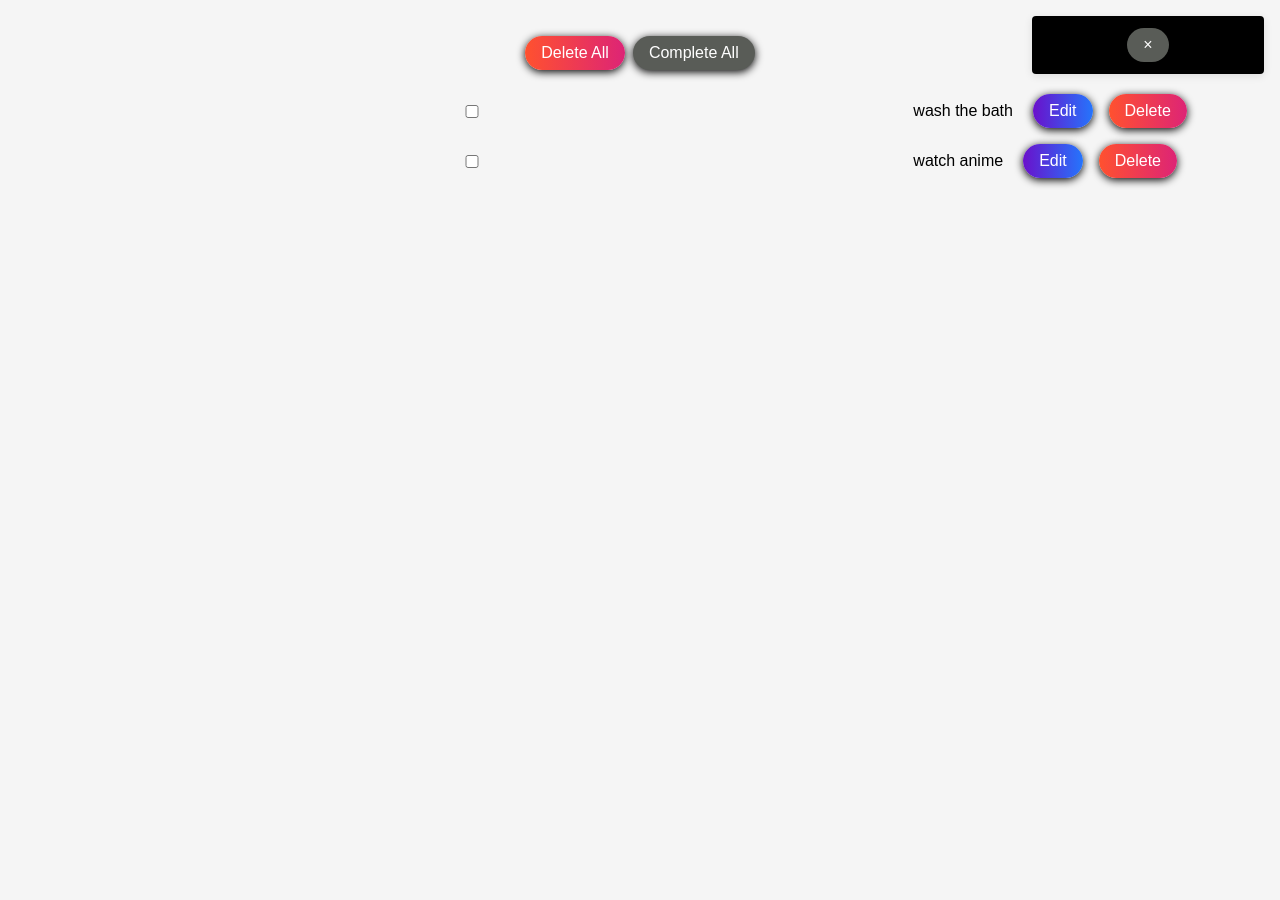
it: Editing a todo- client side validation › User marks all todo items as completed
Step 1. Click the button "Complete All" → {"x": 694, "y": 53}, box [633,36,755,70]
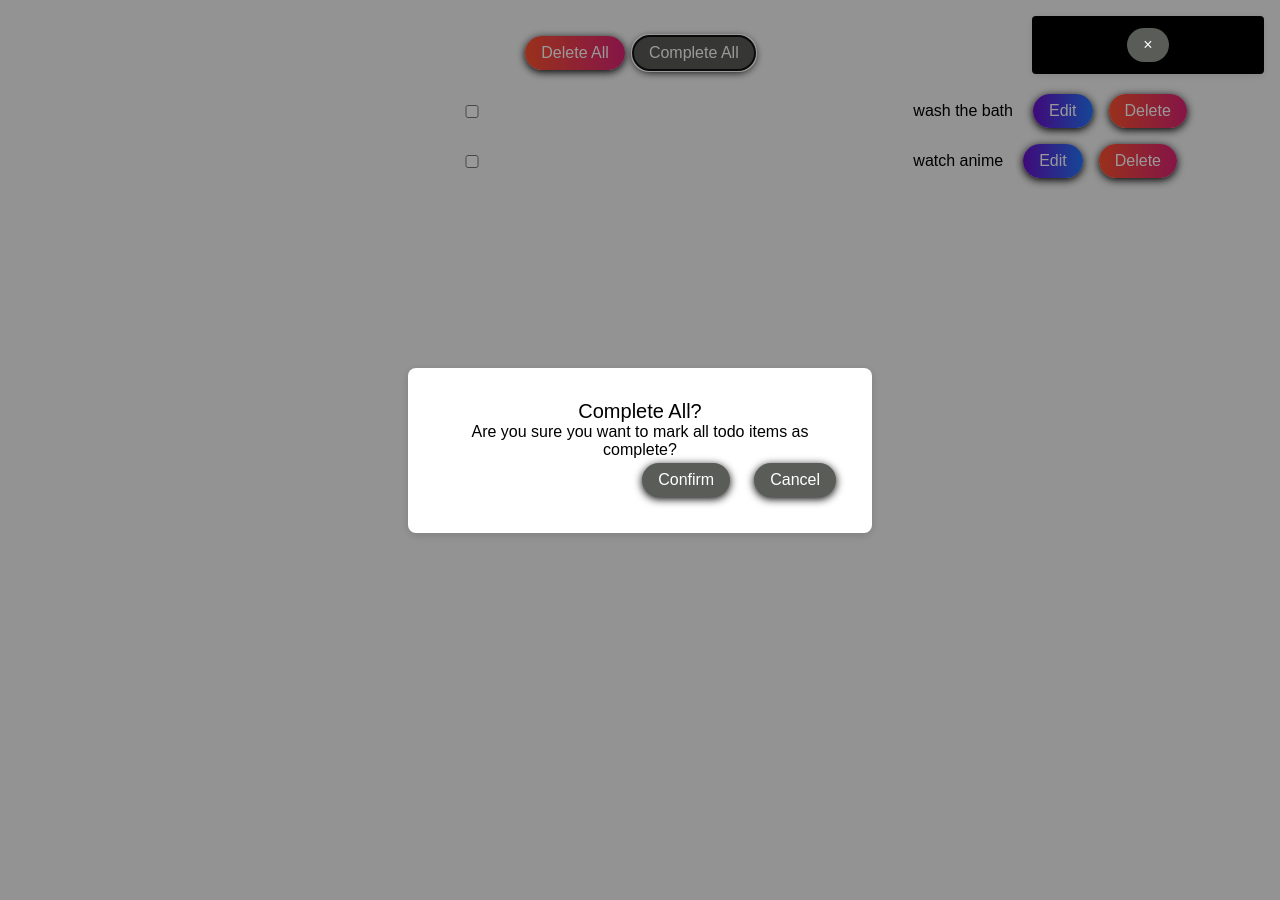
Expected: the button "Confirm" is shown
Step 2. Click the button "Confirm" → {"x": 686, "y": 480}, box [642,462,730,496]
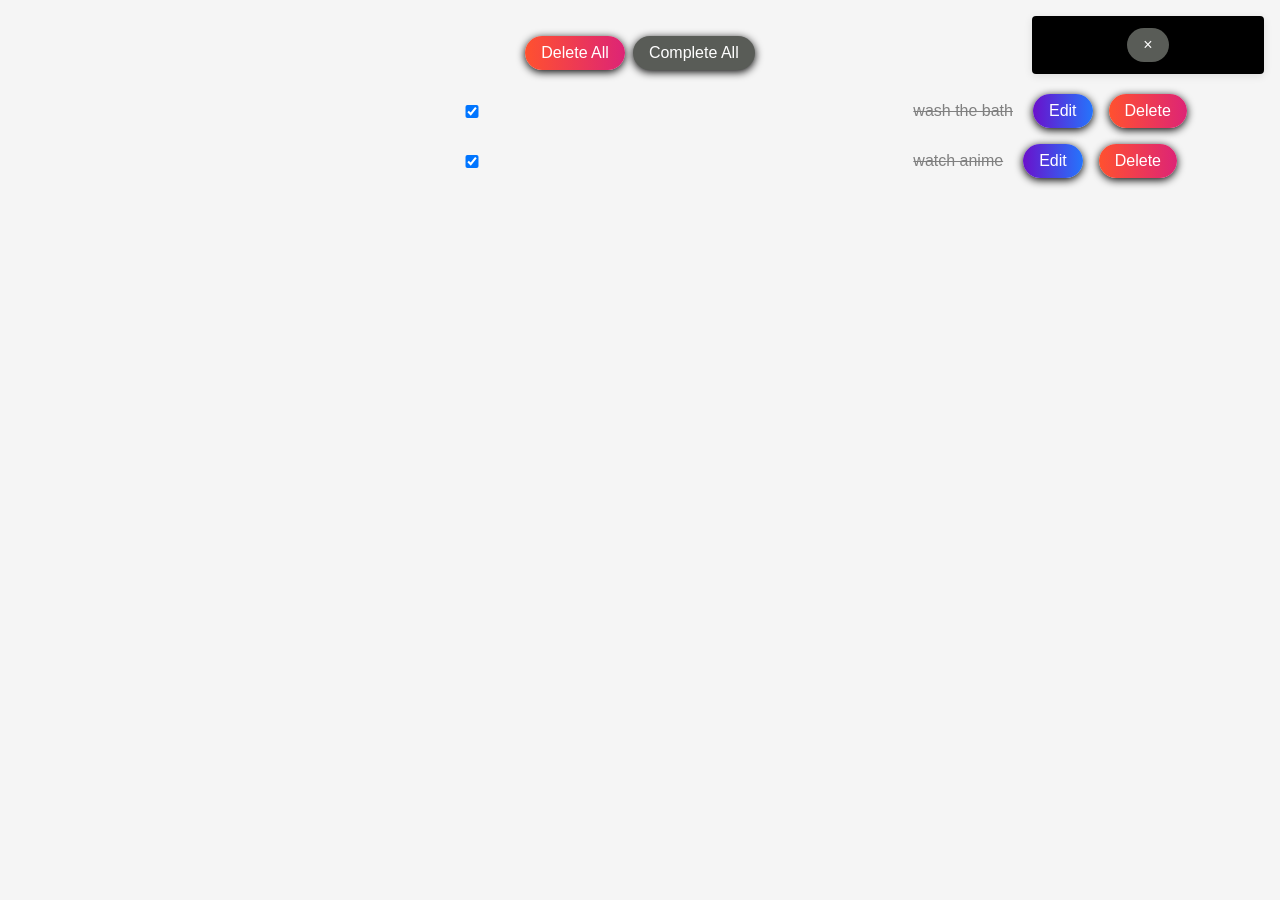
Expected: the checkbox next to "wash the bath" is checked, [52,104,892,118]
Expected: the checkbox next to "watch anime" is checked, [52,154,892,168]
